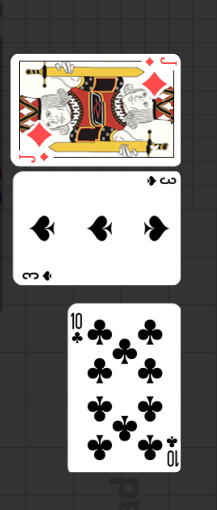10C: (164, 433, 180, 468)
3S: (144, 175, 177, 188)
9D: (144, 54, 178, 67)
